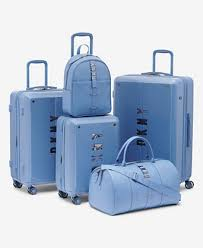suitcase: (113, 49, 194, 191), (56, 32, 118, 205), (8, 61, 61, 194)
